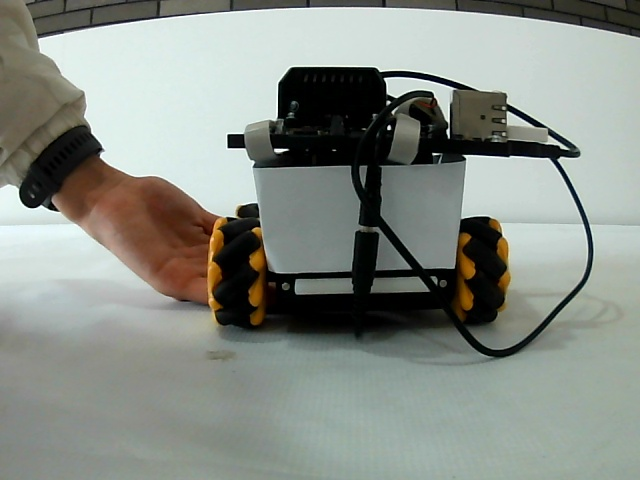car: (214, 66, 505, 324)
paper: (255, 170, 456, 268)
